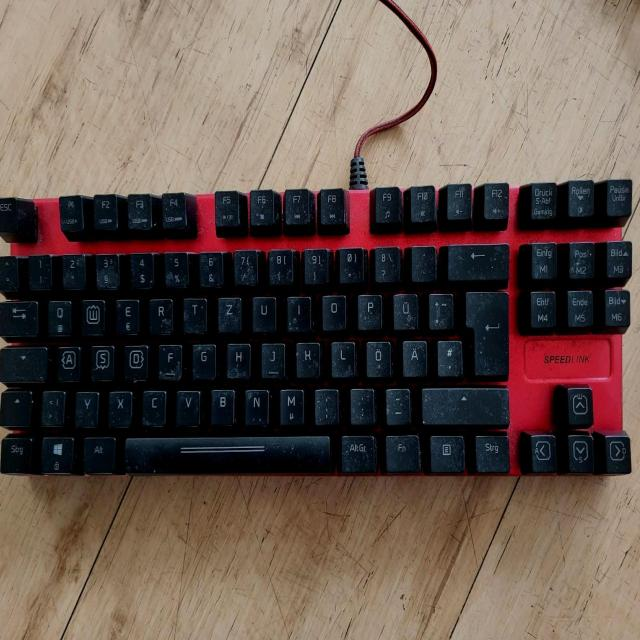0: (336, 247, 365, 286)
1: (26, 250, 52, 289)
2: (60, 251, 86, 289)
3: (93, 249, 120, 289)
4: (127, 248, 154, 287)
5: (162, 247, 188, 287)
6: (196, 248, 223, 287)
7: (231, 245, 257, 285)
8: (265, 244, 293, 287)
9: (302, 247, 330, 287)
a: (55, 341, 80, 381)
accent: (407, 241, 435, 281)
ae: (399, 336, 427, 376)
alt-left: (80, 432, 114, 471)
altgr-right: (337, 431, 375, 471)
b: (207, 384, 234, 424)
c: (140, 386, 166, 424)
caret: (0, 254, 18, 291)
comma: (311, 384, 339, 425)
d: (122, 340, 148, 380)
del: (441, 239, 508, 280)
e: (113, 295, 139, 334)
enter: (462, 287, 509, 376)
f: (156, 340, 181, 379)
g: (190, 339, 215, 378)
h: (224, 338, 250, 378)
hash: (434, 336, 461, 375)
i: (283, 292, 311, 332)
j: (258, 338, 285, 378)
k: (293, 337, 320, 378)
keyboard: (0, 170, 636, 483)
l: (327, 337, 355, 377)
less: (39, 386, 64, 424)
m: (276, 384, 304, 426)
minus: (382, 384, 410, 424)
n: (241, 384, 268, 425)
o: (318, 291, 346, 330)
oe: (363, 337, 391, 377)
p: (353, 290, 382, 329)
plus: (425, 289, 453, 329)
point: (347, 384, 375, 424)
q: (45, 296, 71, 335)
r: (147, 295, 173, 334)
s: (89, 341, 114, 380)
shift-left: (0, 387, 30, 425)
shift-lock: (0, 342, 47, 380)
shift-right: (417, 383, 507, 425)
space: (120, 430, 332, 471)
ss: (372, 246, 401, 287)
strg-left: (0, 434, 31, 471)
strg-right: (471, 431, 509, 470)
t: (180, 294, 207, 333)
tab: (0, 297, 38, 334)
u: (249, 293, 276, 333)
ue: (389, 289, 418, 330)
v: (173, 385, 199, 425)
w: (78, 295, 105, 334)
x: (106, 386, 132, 426)
y: (73, 387, 98, 425)
z: (215, 293, 241, 332)
